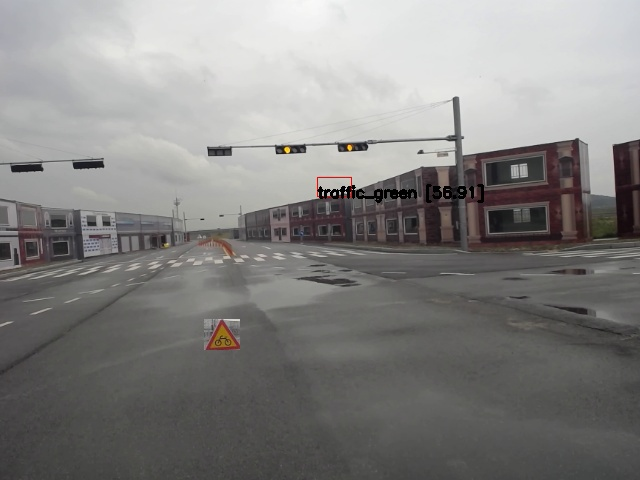orange_4: (336, 141, 370, 154), (273, 144, 308, 156)
